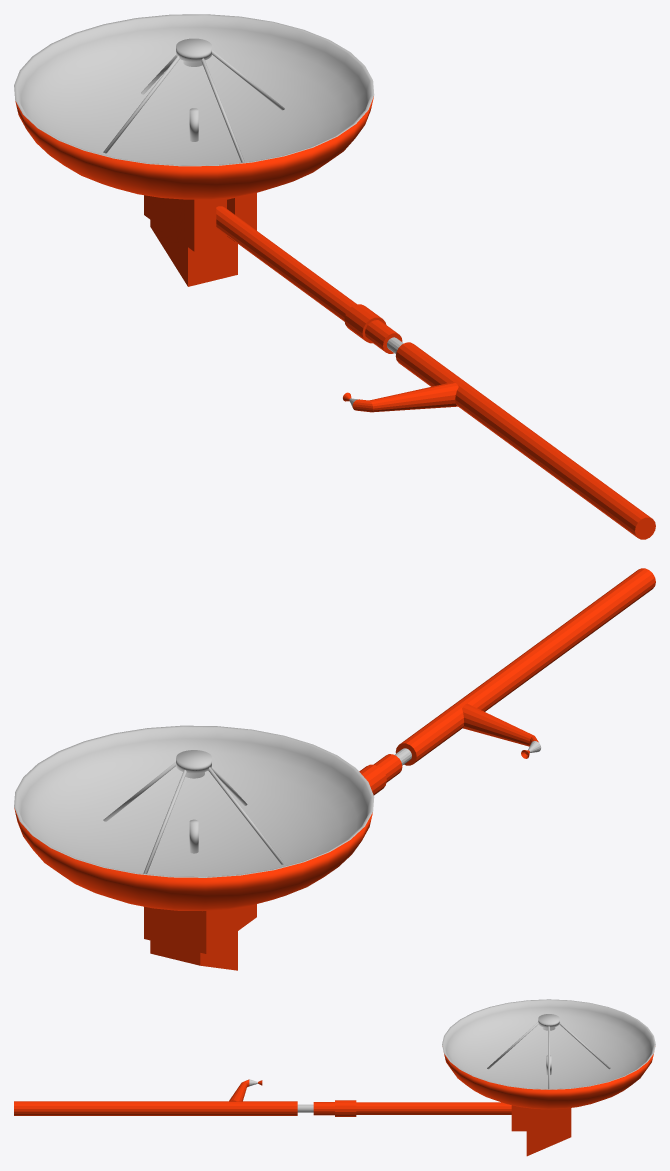
Rendered from Landsat_Antena.obj.
3 renders of one model, top to bottom at view 1: azimuth 30°, elevation 25°; view 2: azimuth 150°, elevation 25°; view 3: azimuth 270°, elevation 25°, orthographic. The views are drawn at different scales.
Bounding box in the file's own units: 0.5 × 0.3375 × 1.5.
